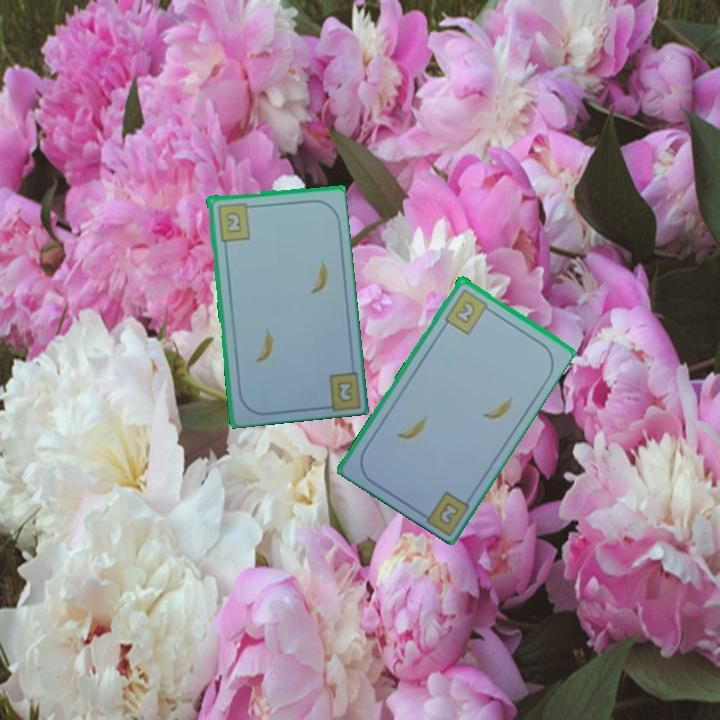2b: (441, 285, 495, 337), (214, 199, 256, 244), (435, 498, 462, 528), (333, 377, 355, 404)
